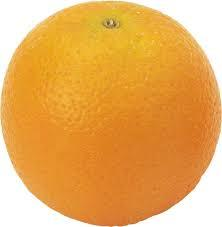non-mango: (0, 0, 221, 226)
